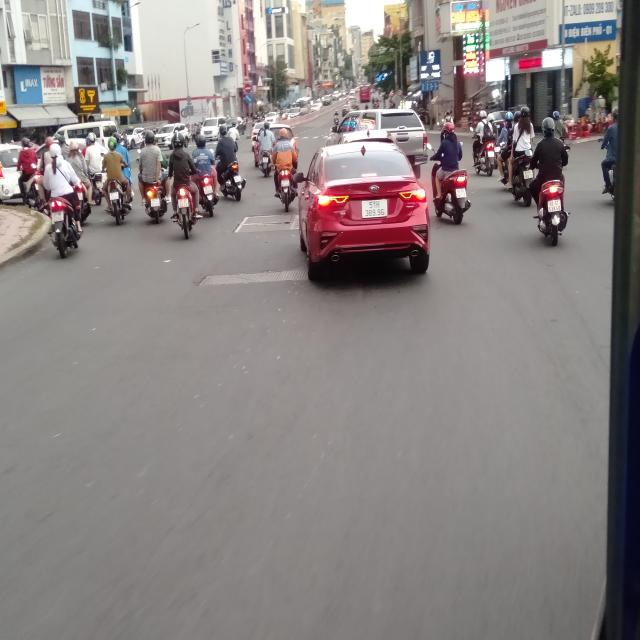bien_trang: (361, 197, 390, 220), (545, 199, 563, 213)
